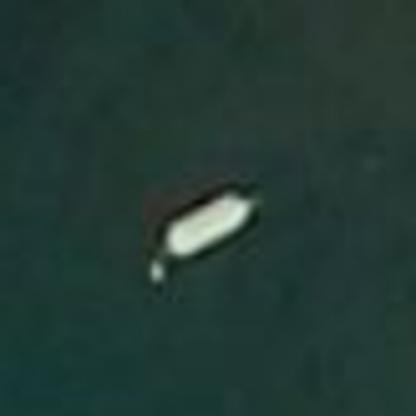ship: (118, 169, 274, 305)
